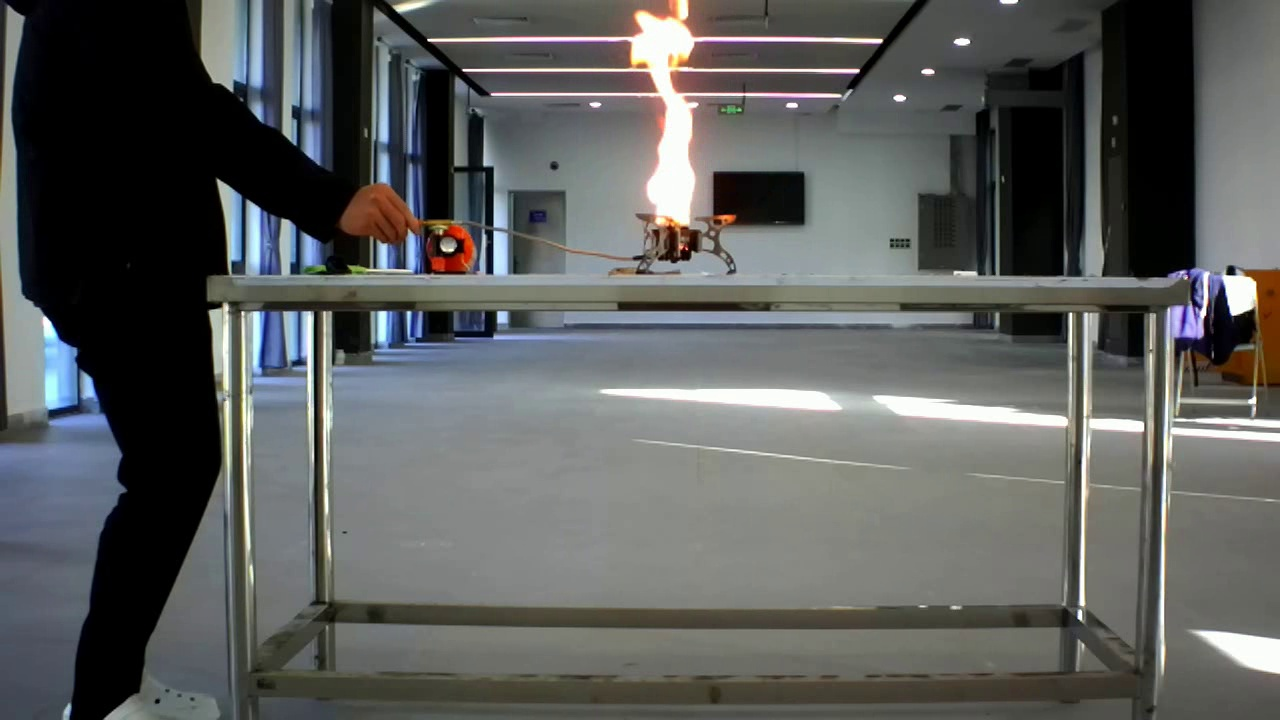Fire: (615, 0, 740, 267)
